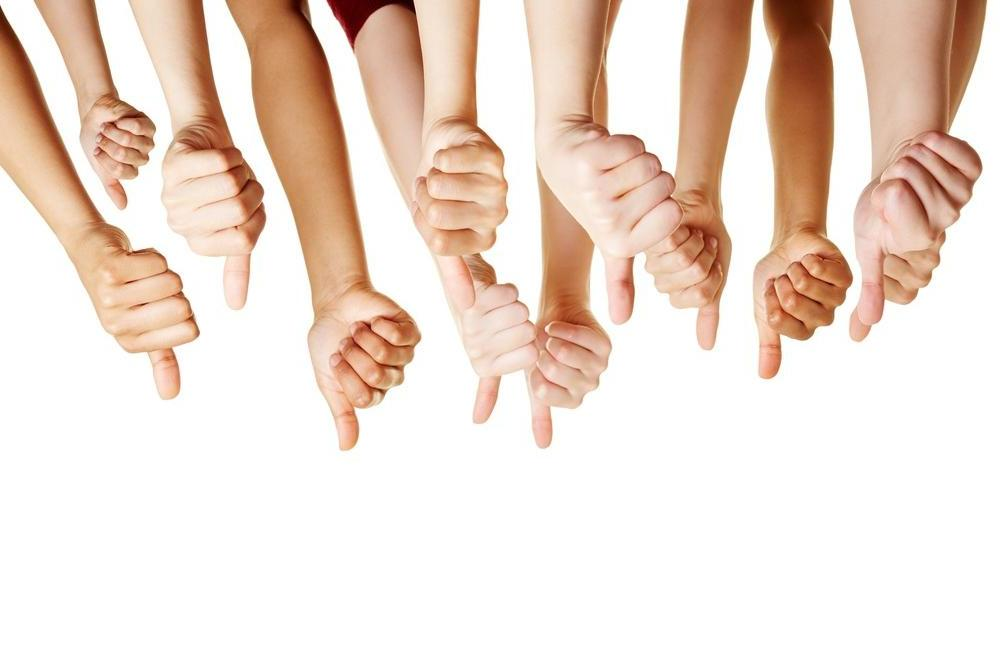thumbsdown: (853, 129, 985, 327), (566, 123, 685, 327), (411, 122, 513, 311), (161, 142, 271, 312), (312, 289, 423, 454), (95, 241, 202, 402), (752, 231, 858, 382), (641, 224, 736, 354), (460, 279, 543, 424), (529, 316, 613, 452), (81, 96, 159, 213)
